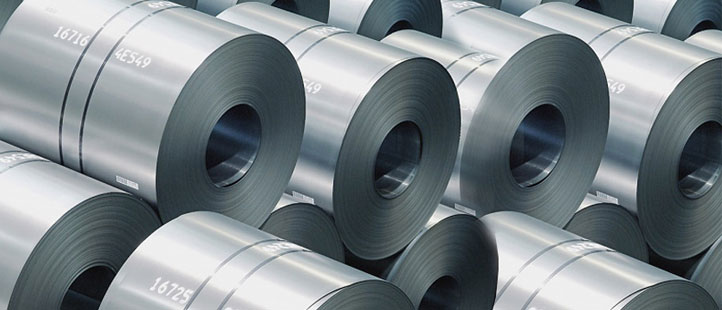steel-coil: (8, 0, 720, 222), (8, 2, 306, 222), (47, 147, 501, 278)
